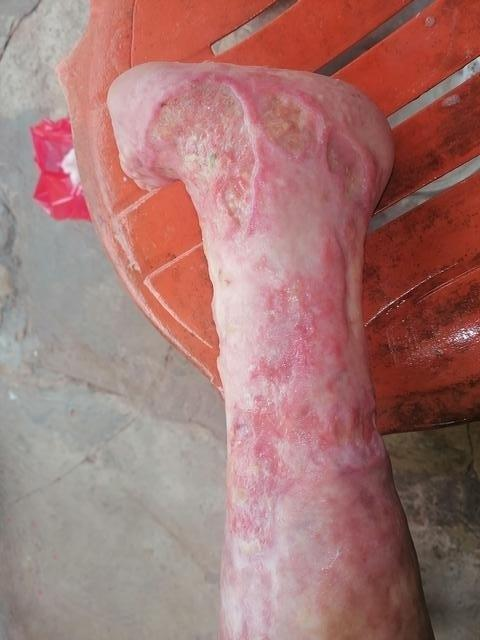wound: (226, 224, 385, 549), (141, 71, 268, 241), (253, 85, 325, 162), (325, 128, 374, 216)
